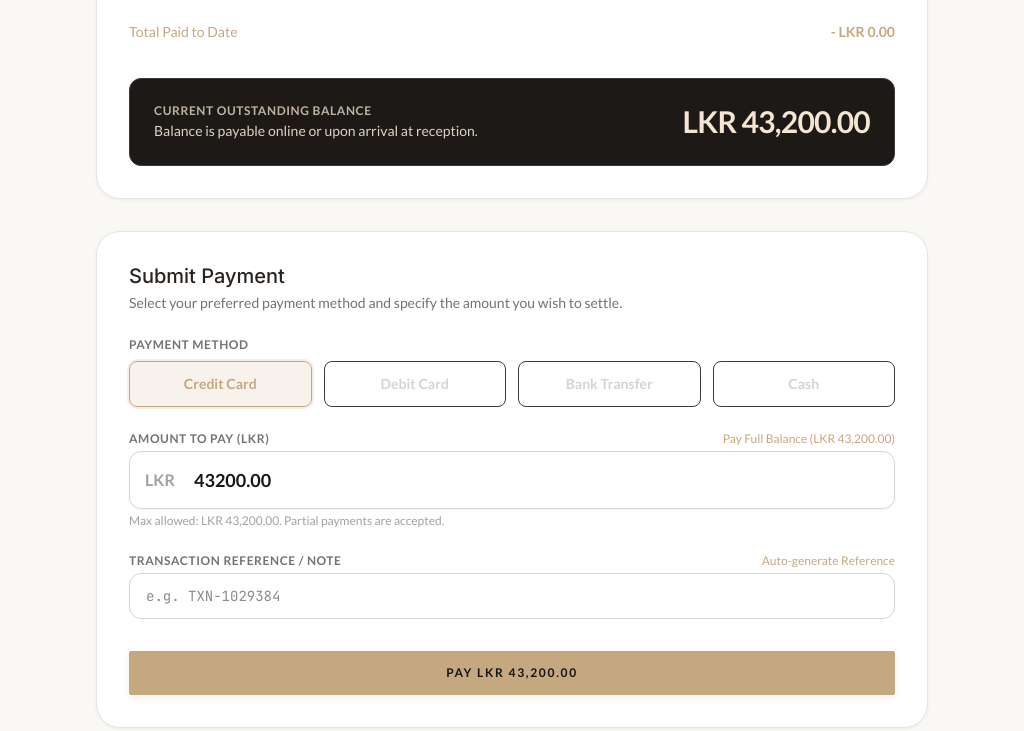
Test: GuestPayPage - P05-M05-T14 › displays error banner if POST returns 409 duplicate transaction reference
(page scrolled)
Click the button with test id "submit-payment-btn" at (512, 673), box [129,651,895,695]
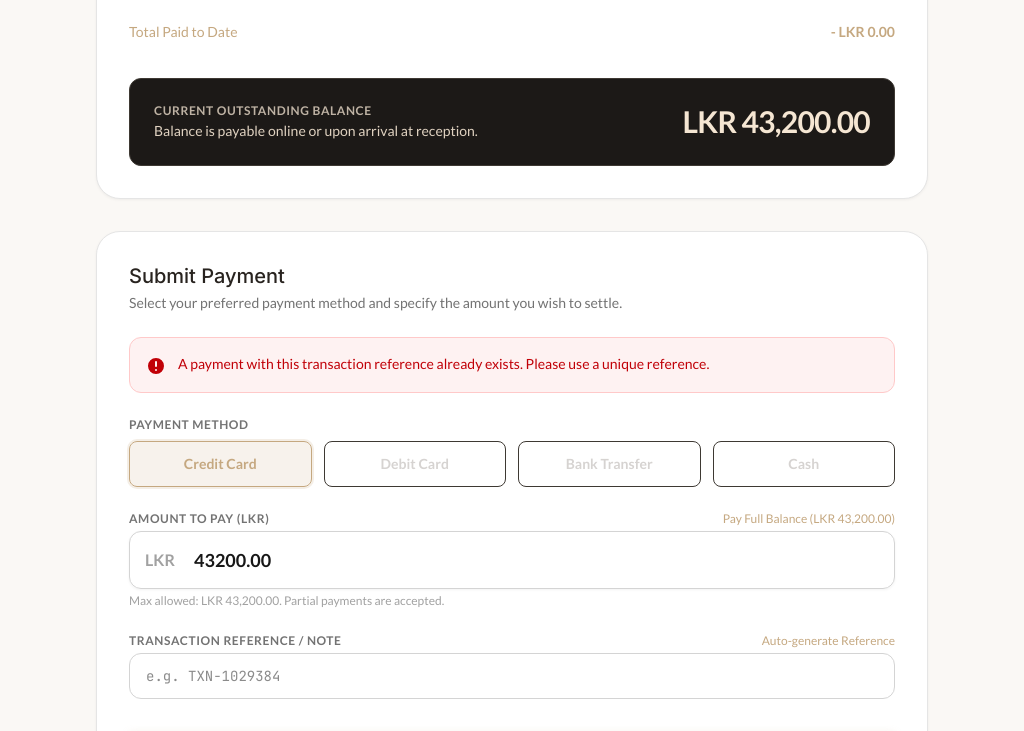
Check: the text "already exists" is shown, box [178,355,709,372]
